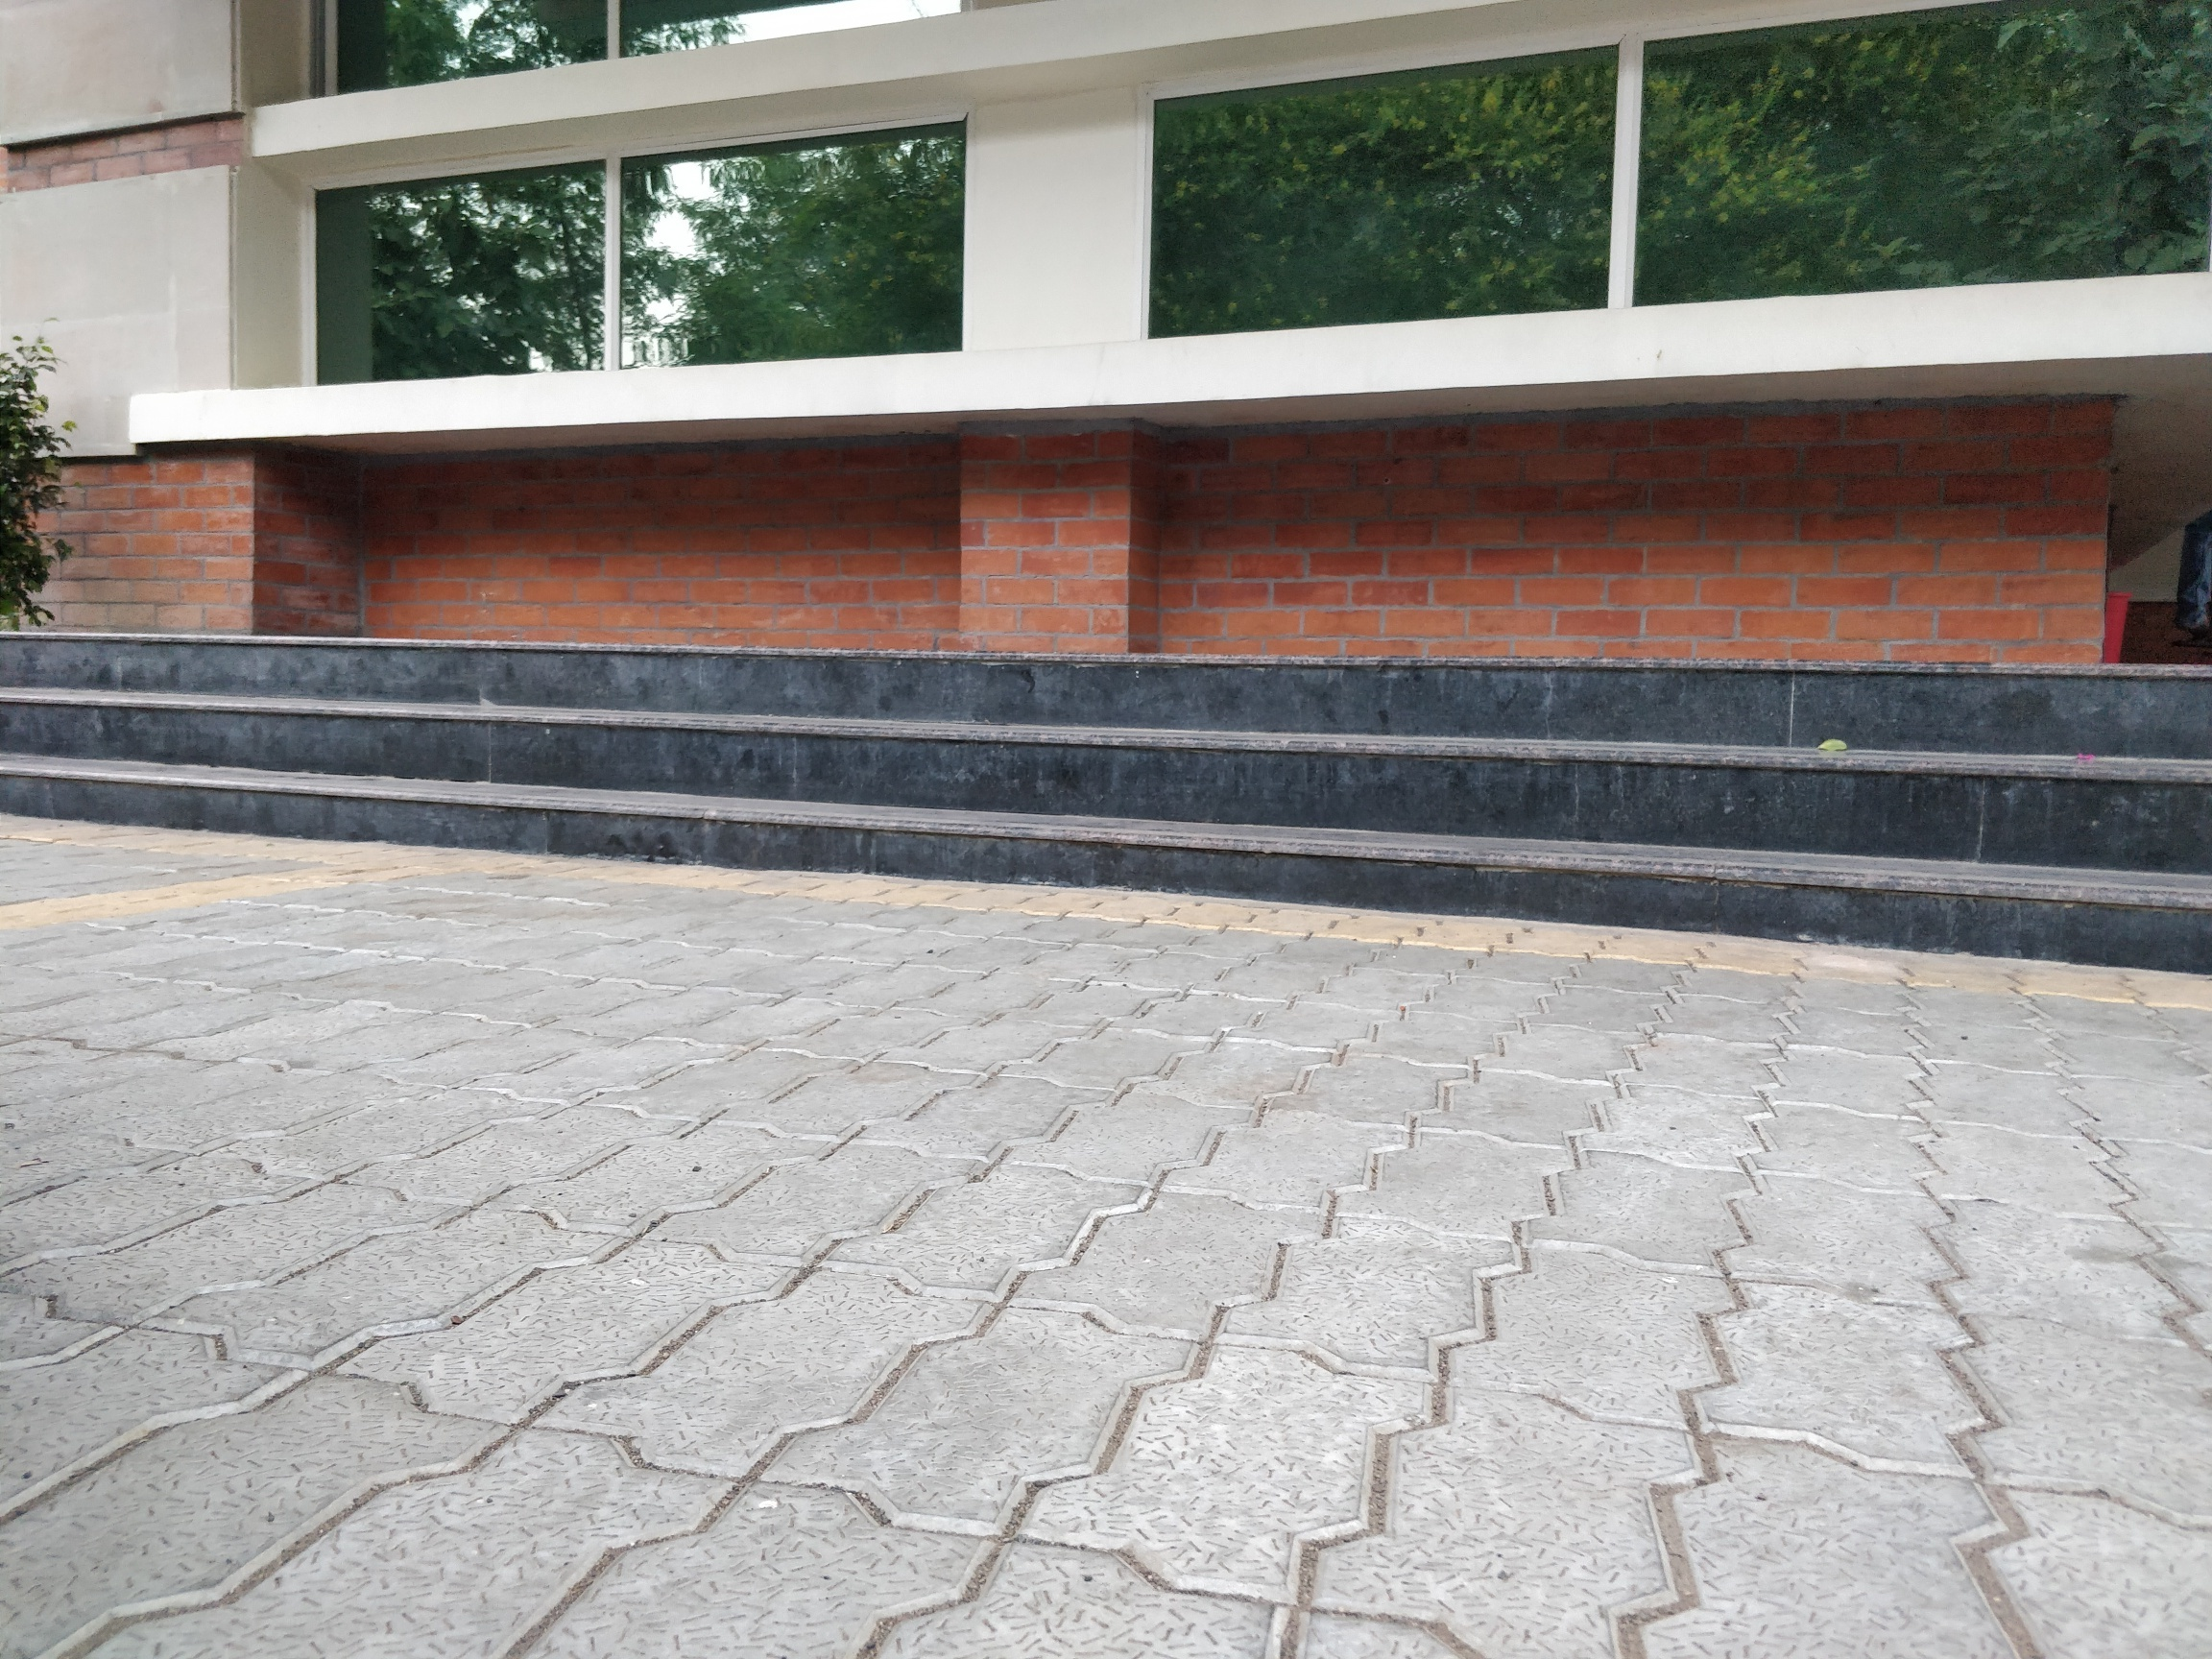stairs_up: (24, 631, 2202, 880)
